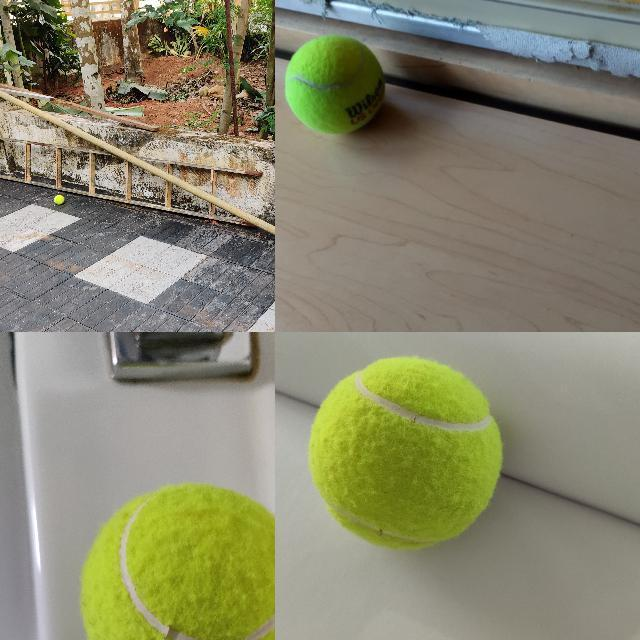tennis-ball: (306, 355, 504, 552), (77, 480, 274, 639), (284, 34, 386, 134), (54, 194, 65, 204)
